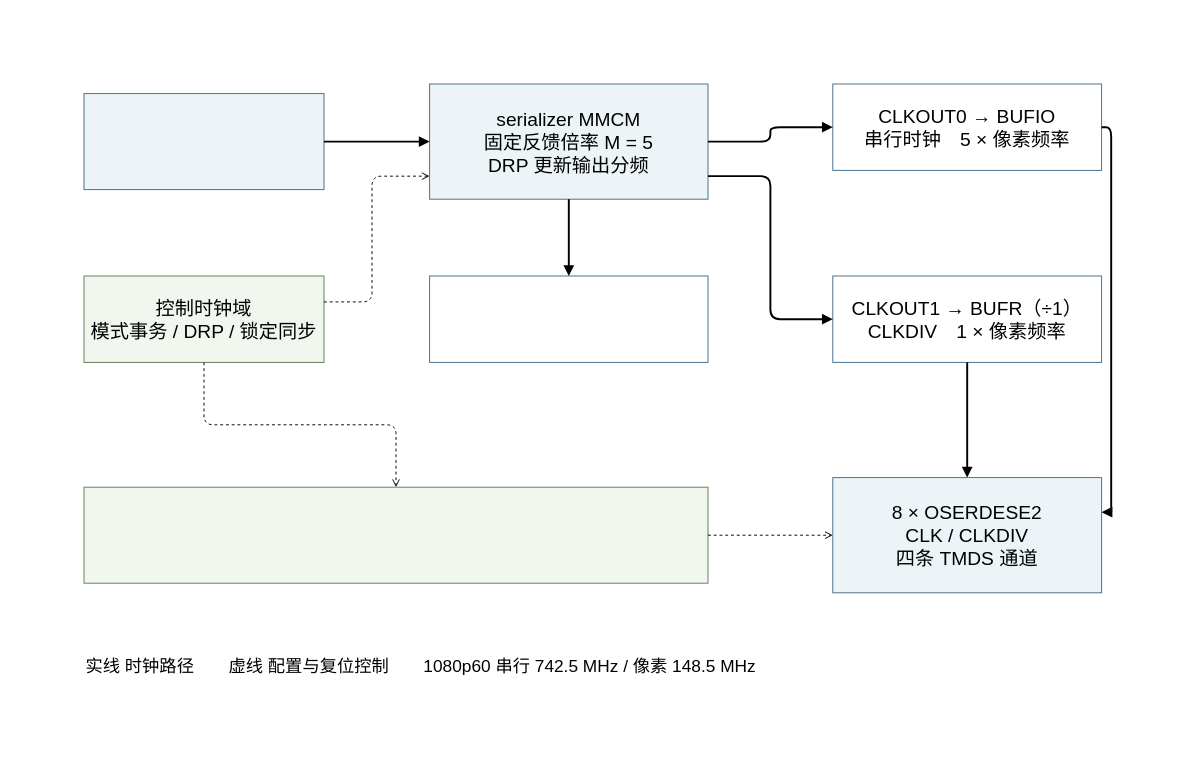
The diagram is 1185 pixels wide and 781 high, and some of its shapes have lost their labels. Here are the shapes that lost their labels. From the top down, the centre of each, then its label:
At point (203, 141): "50 MHz 参考输入 VGA / HD 参考生成".
At point (568, 318): "CLKOUT2 → BUFG 像素处理与 packet 逻辑".
At point (395, 534): "输出恢复条件 锁定 → 几何确认 → 新 VSYNC".
